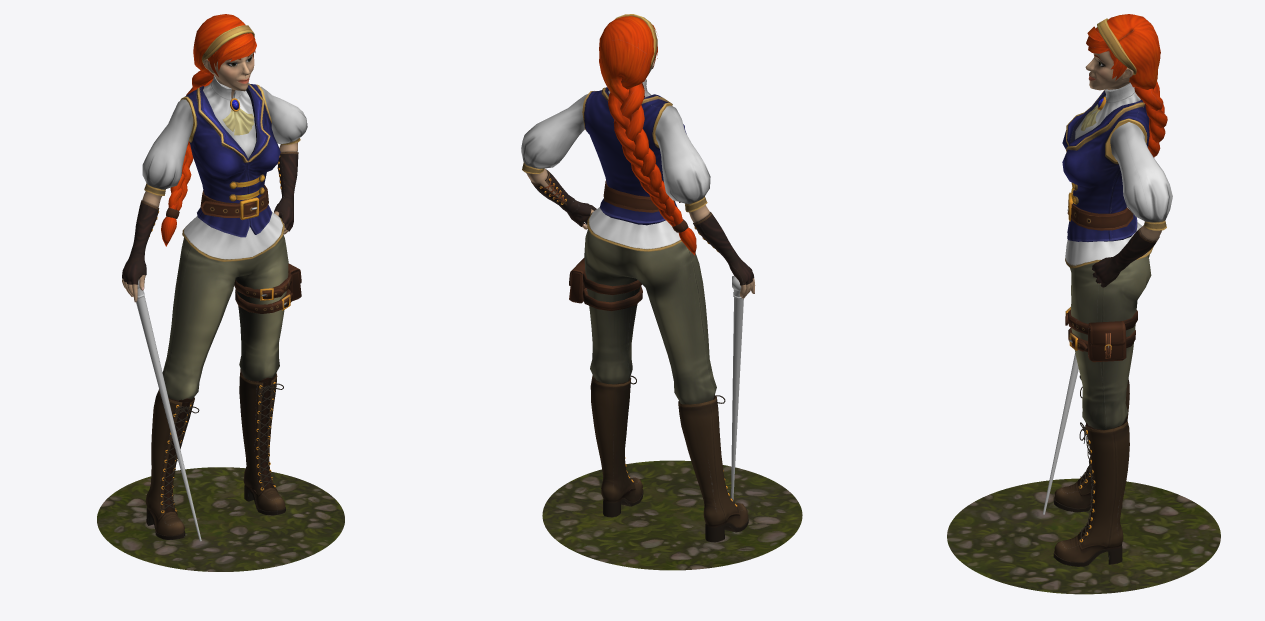
File: Lady with a walking stick.obj
3 renders of one model, left to right at view 1: azimuth 30°, elevation 25°; view 2: azimuth 150°, elevation 25°; view 3: azimuth 270°, elevation 25°, orthographic. The views are drawn at different scales.
Visible parts, largest first — view 1: boots, Plane001, Cylinder001; view 2: boots, Plane001, Cylinder001; view 3: boots, Plane001, Cylinder001.
Boxes of the visible parts, bbox=[...] form: boots: bbox=[122, 14, 307, 539]; Plane001: bbox=[97, 467, 344, 571]; Cylinder001: bbox=[136, 280, 201, 541]; boots: bbox=[521, 14, 755, 542]; Plane001: bbox=[542, 460, 802, 570]; Cylinder001: bbox=[731, 276, 743, 500]; boots: bbox=[1053, 14, 1172, 566]; Plane001: bbox=[947, 478, 1220, 594]; Cylinder001: bbox=[1042, 353, 1078, 514].
Size of the model in its own units: 10.16 by 17.87 by 10.16.
